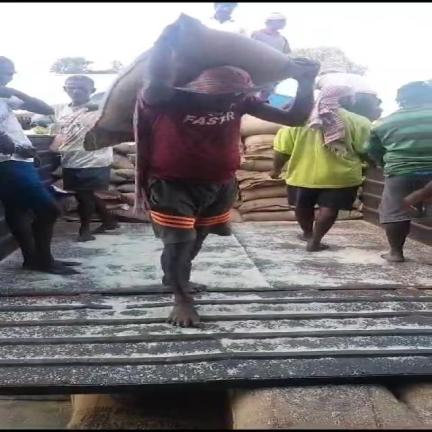Zone-Counting: (85, 14, 319, 325)
